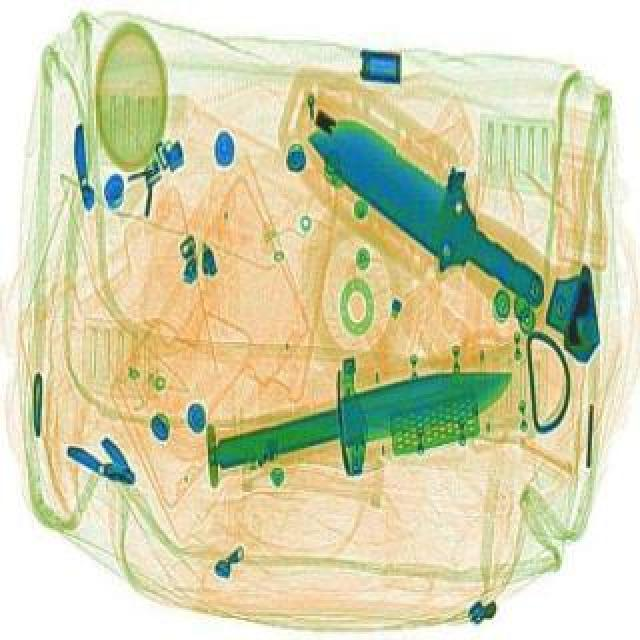knife: (294, 100, 566, 316), (204, 354, 520, 472)
